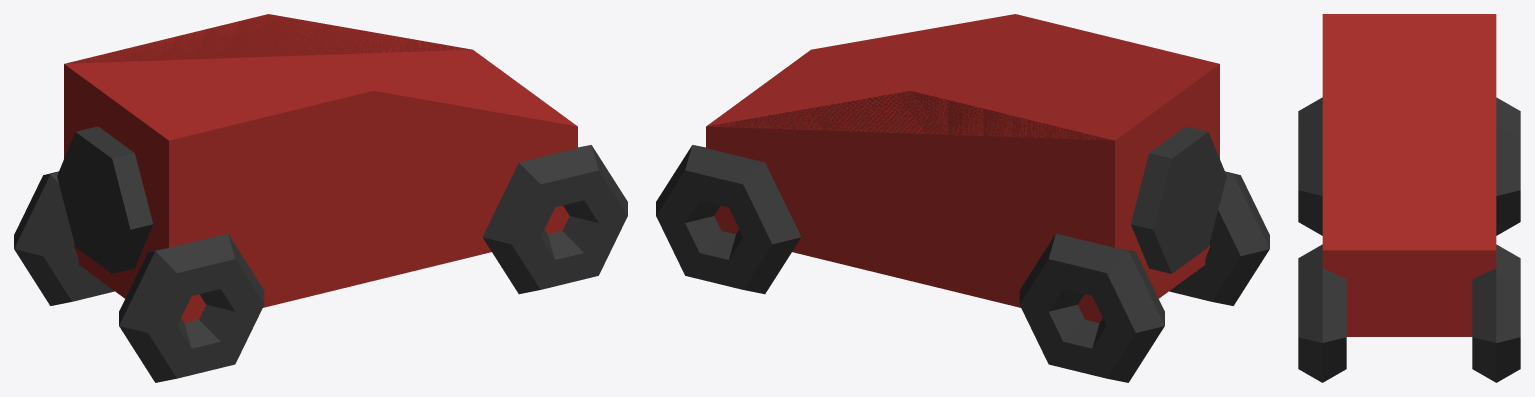
The model's file is toycar.fbx.
The picture shows the model from 3 angles, left to right: view 1: azimuth 30°, elevation 25°; view 2: azimuth 150°, elevation 25°; view 3: azimuth 270°, elevation 25°; orthographic projection. The views are drawn at different scales.
Visible parts, largest first — view 1: Cube, Torus.002, Torus.003, Cylinder, Torus.001; view 2: Cube, Torus.001, Torus, Cylinder, Torus.002; view 3: Cube, Torus, Torus.003, Torus.001, Torus.002.
Part boxes in pixels (x1=…): Cube: x1=64, y1=14, x2=577, y2=322; Torus.002: x1=119, y1=233, x2=264, y2=382; Torus.003: x1=482, y1=145, x2=627, y2=294; Cylinder: x1=57, y1=126, x2=153, y2=273; Torus.001: x1=14, y1=171, x2=114, y2=305; Cube: x1=706, y1=14, x2=1219, y2=322; Torus.001: x1=1019, y1=233, x2=1164, y2=382; Torus: x1=656, y1=145, x2=801, y2=294; Cylinder: x1=1130, y1=126, x2=1226, y2=273; Torus.002: x1=1169, y1=171, x2=1269, y2=305; Cube: x1=1322, y1=14, x2=1496, y2=336; Torus: x1=1472, y1=244, x2=1520, y2=382; Torus.003: x1=1298, y1=244, x2=1346, y2=382; Torus.001: x1=1496, y1=97, x2=1520, y2=235; Torus.002: x1=1298, y1=97, x2=1322, y2=235.
Bounding box in the file's own units: 280 × 126 × 128.
